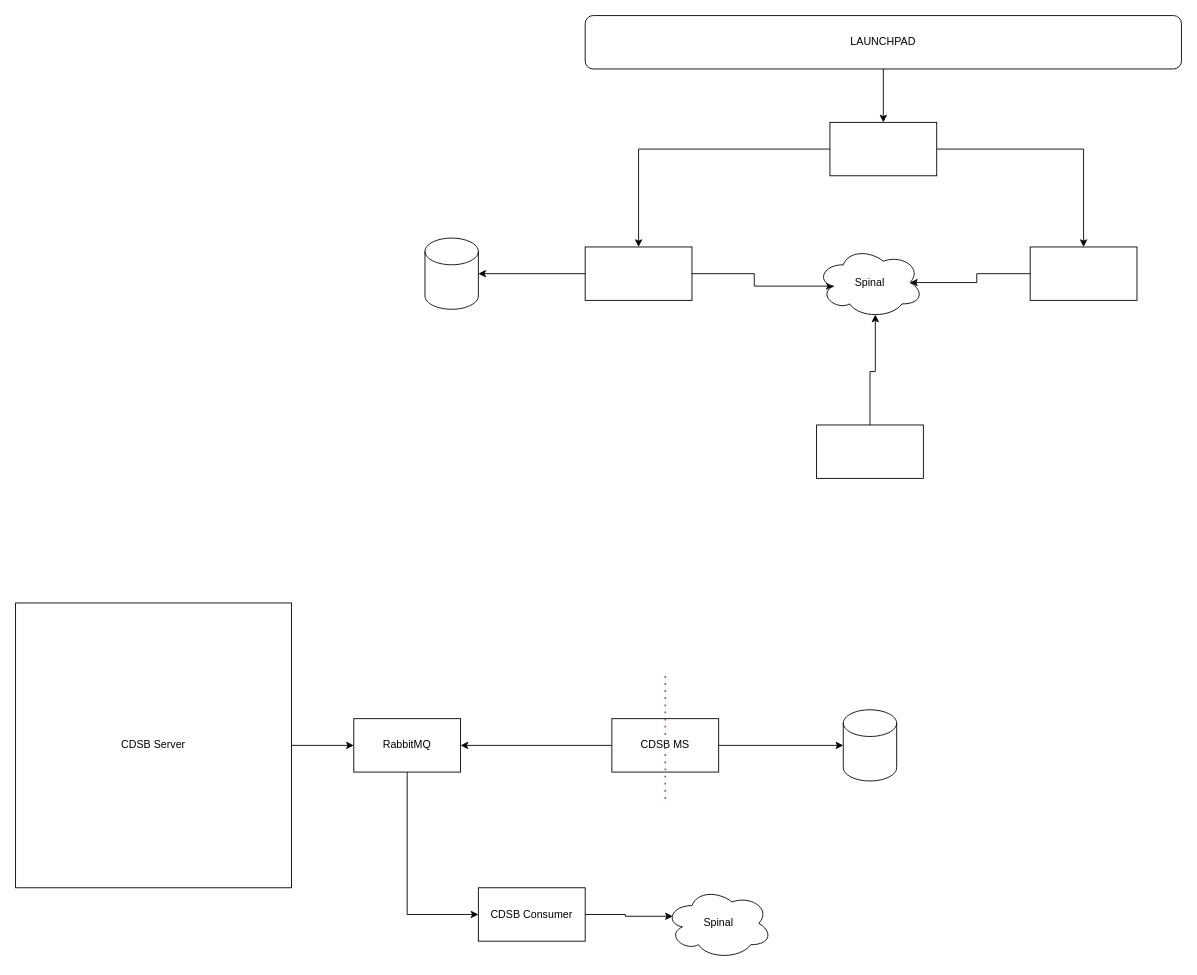
Image size: 1197x975. Some labels were removed from this diagram. The centre of each missing label's shape, as x and y in pixels:
Backend for frontend: the point at 883,148
Microservice 1: the point at 638,273
Microservice 2: the point at 869,451
Microservice 3: the point at 1083,273
